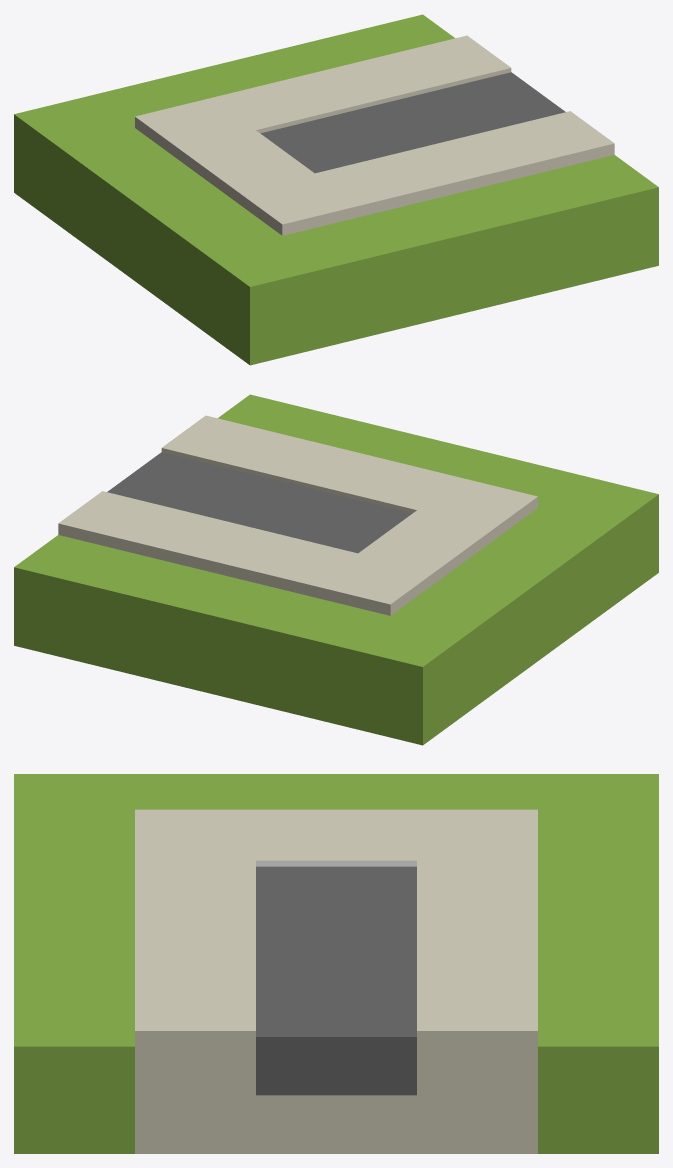
File: road-small-deadend.obj
The picture shows the model from 3 angles, top to bottom: view 1: azimuth 30°, elevation 25°; view 2: azimuth 150°, elevation 25°; view 3: azimuth 270°, elevation 25°; orthographic projection. The views are drawn at different scales.
Parts seen in each view (by area): view 1: Mesh1_Group1_Model.039; view 2: Mesh1_Group1_Model.039; view 3: Mesh1_Group1_Model.039.
Part boxes in pixels (<box>): Mesh1_Group1_Model.039: <box>14,14,658,365</box>; Mesh1_Group1_Model.039: <box>14,394,658,745</box>; Mesh1_Group1_Model.039: <box>14,774,658,1153</box>.
Size of the model in its own units: 3 by 0.63 by 3.
